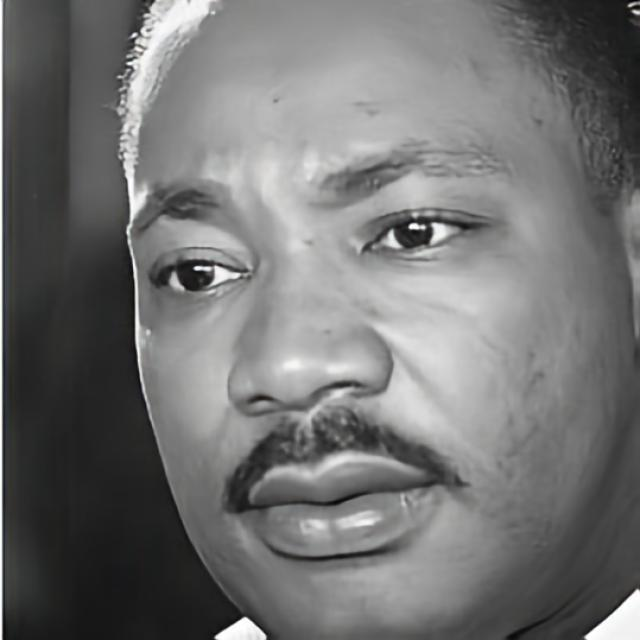neutral: (118, 0, 627, 640)
